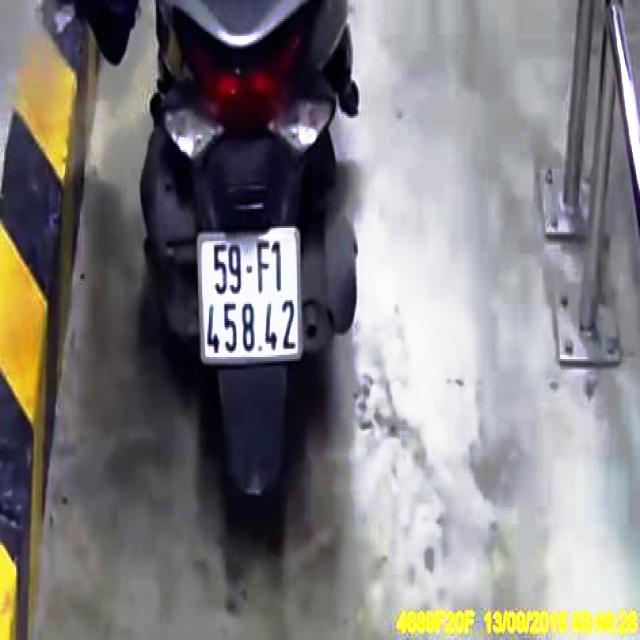license_plate: (203, 226, 303, 358)
